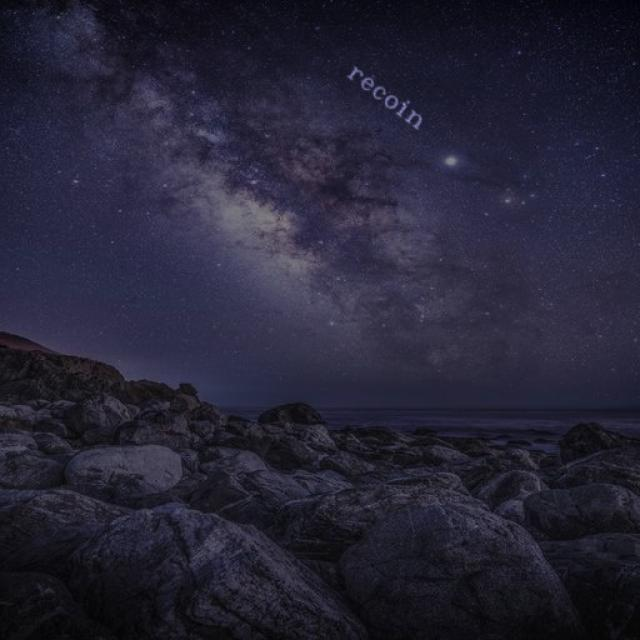watermark: (339, 55, 437, 135)
